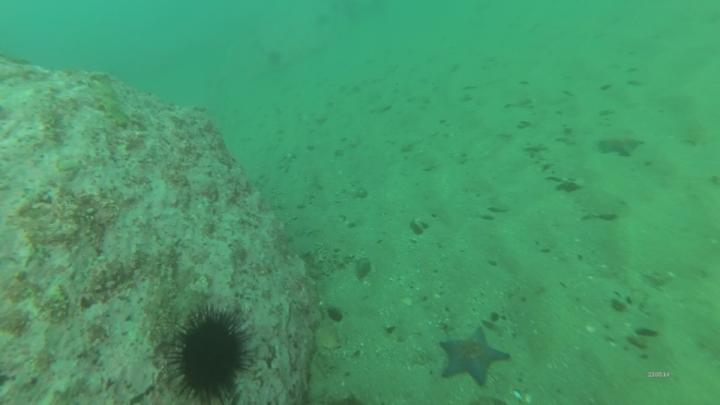echinus: (174, 308, 250, 403)
holothurian: (92, 72, 129, 129)
starfish: (440, 325, 513, 388), (600, 127, 644, 157)
